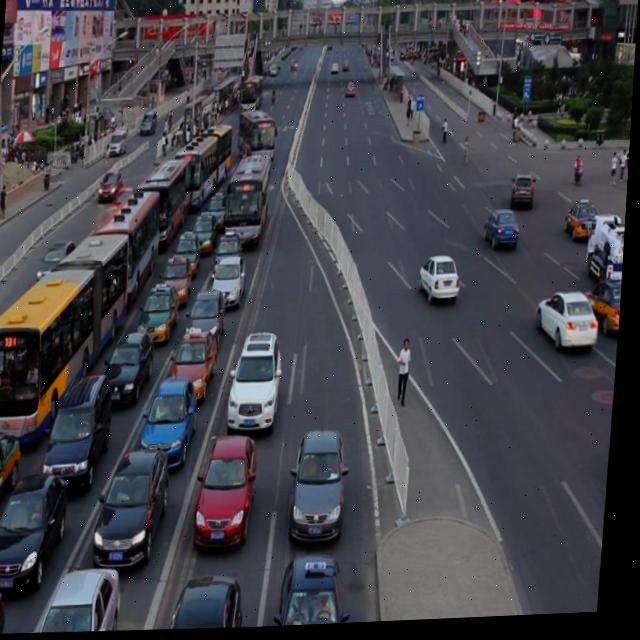bus: (585, 214, 629, 294)
car: (100, 443, 177, 563), (0, 470, 77, 583), (48, 368, 119, 483), (294, 428, 357, 538), (37, 561, 130, 635), (200, 435, 265, 540), (231, 330, 289, 430), (281, 555, 358, 629), (146, 374, 203, 461), (168, 573, 252, 632), (535, 292, 603, 356), (108, 324, 160, 401), (172, 326, 221, 397), (0, 426, 26, 528), (188, 288, 232, 348), (142, 282, 185, 340), (585, 281, 626, 341), (420, 255, 464, 304), (483, 210, 522, 256), (216, 252, 251, 303), (162, 251, 196, 301), (566, 202, 600, 247), (39, 244, 78, 283), (174, 228, 206, 273), (217, 227, 245, 273), (206, 187, 234, 226), (194, 208, 220, 249), (510, 174, 537, 212), (100, 170, 124, 201), (0, 582, 14, 635), (116, 187, 135, 211)
van: (0, 229, 135, 442), (90, 183, 165, 305), (176, 116, 235, 203), (224, 155, 275, 251), (142, 153, 191, 244), (237, 110, 279, 167)
